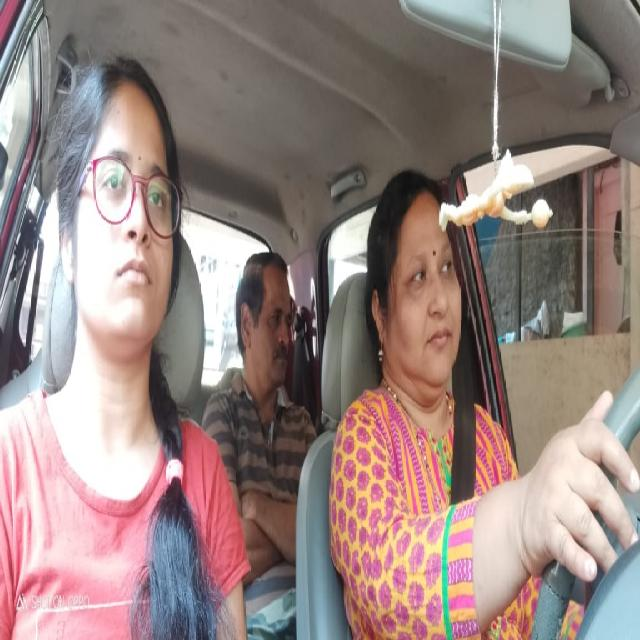person: (65, 72, 174, 343), (369, 200, 460, 382), (238, 256, 292, 382)
